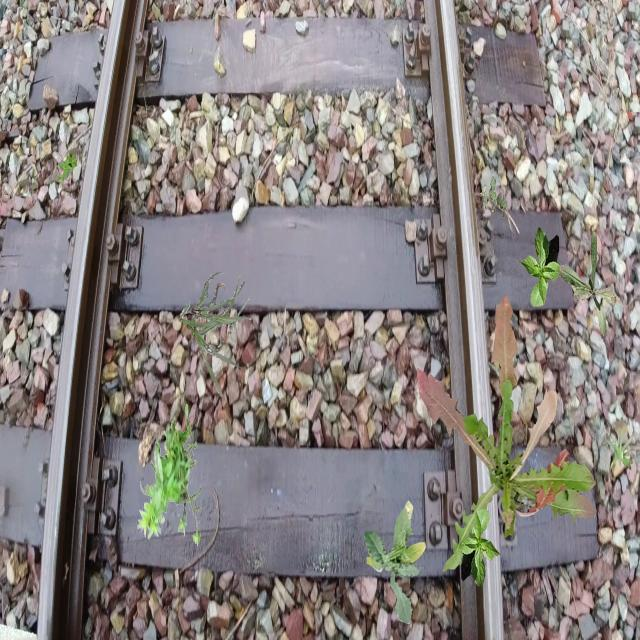Plant: (417, 294, 597, 572), (137, 404, 202, 548), (179, 273, 252, 398), (364, 500, 426, 624), (558, 231, 622, 343), (520, 227, 562, 307), (459, 509, 501, 589), (602, 425, 634, 471), (480, 176, 508, 217), (58, 152, 78, 184)
